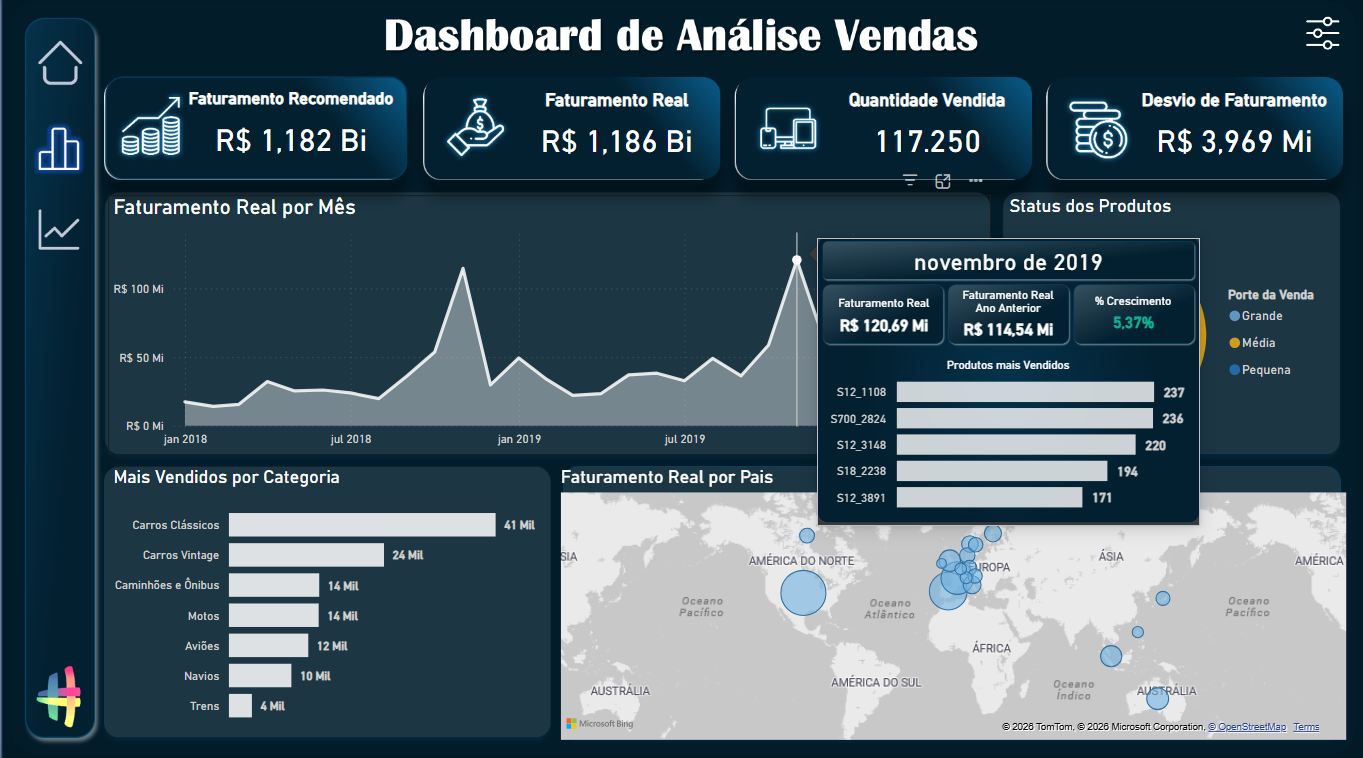

This screenshot's page, from the dashboard's own definition file:
{"tool":"powerbi","page":{"name":"Inicial","canvas":[1280,720],"ordinal":1},"visuals":[{"type":"card","title":"Faturamento Recomendado","fields":{"Values":["Medidas.Faturamento Total Previsto"]},"box":[168.9,89.5,207,73.8],"z":0},{"type":"card","title":"Faturamento Real","fields":{"Values":["Medidas.Faturamento Total Real"]},"box":[474.6,89.5,203.9,73.6],"z":1000},{"type":"card","title":"Quantidade Vendida","fields":{"Values":["Medidas.Qtde Vendida"]},"box":[770.8,89.5,194.7,73.8],"z":2000},{"type":"card","title":"Desvio de Faturamento","fields":{"Values":["Medidas.Desvio de Preço"]},"box":[1056.3,89.2,199.7,73.6],"z":3000},{"type":"stackedAreaChart","title":"Faturamento Real por Mês","fields":{"Category":["dCalendario.Inicio do Mês"],"Y":["Medidas.Faturamento Total Real"]},"box":[100.4,188.5,827.7,243.2],"z":4000},{"type":"image","title":"Botão de Filtro","box":[1219.2,21.2,39,31.2],"z":5000},{"type":"clusteredBarChart","title":"Mais Vendidos por Categoria","fields":{"Y":["Medidas.Qtde Vendida"],"Category":["dProduto.Categoria"]},"box":[100.4,442.8,413.8,252.1],"z":6000},{"type":"map","title":"Faturamento Real por Pais","fields":{"Category":["dLocalidade.Pais"],"Size":["Medidas.Faturamento Total Real"]},"box":[519.8,442.8,746.2,261],"z":7000},{"type":"actionButton","title":"Botão Capa","box":[22.3,37.2,68.3,60.8],"z":8000},{"type":"donutChart","title":"Status dos Produtos","fields":{"Y":["Medidas.Qtde Vendida"],"Series":["fVendas.Porte da Venda1"]},"box":[940.3,188.5,317.9,243.2],"z":9000},{"type":"actionButton","box":[22.6,191.3,67.8,57.1],"z":11000},{"type":"actionButton","title":"Botão Capa","box":[21.1,187.5,68.3,60.8],"z":12000}]}

Visuals, with their boxes in screenshot pixels (x1, y1, x2, y2), scaled from the page's 1280x720 canvas onto the 1363x758 screenshot:
"Faturamento Recomendado" card: rect(180, 94, 400, 172)
"Faturamento Real" card: rect(505, 94, 722, 172)
"Quantidade Vendida" card: rect(821, 94, 1028, 172)
"Desvio de Faturamento" card: rect(1125, 94, 1337, 171)
"Faturamento Real por Mês" stackedAreaChart: rect(107, 198, 988, 454)
"Botão de Filtro" image: rect(1298, 22, 1340, 55)
"Mais Vendidos por Categoria" clusteredBarChart: rect(107, 466, 548, 732)
"Faturamento Real por Pais" map: rect(554, 466, 1348, 741)
"Botão Capa" actionButton: rect(24, 39, 96, 103)
"Status dos Produtos" donutChart: rect(1001, 198, 1340, 454)
actionButton: rect(24, 201, 96, 262)
"Botão Capa" actionButton: rect(22, 197, 95, 261)
